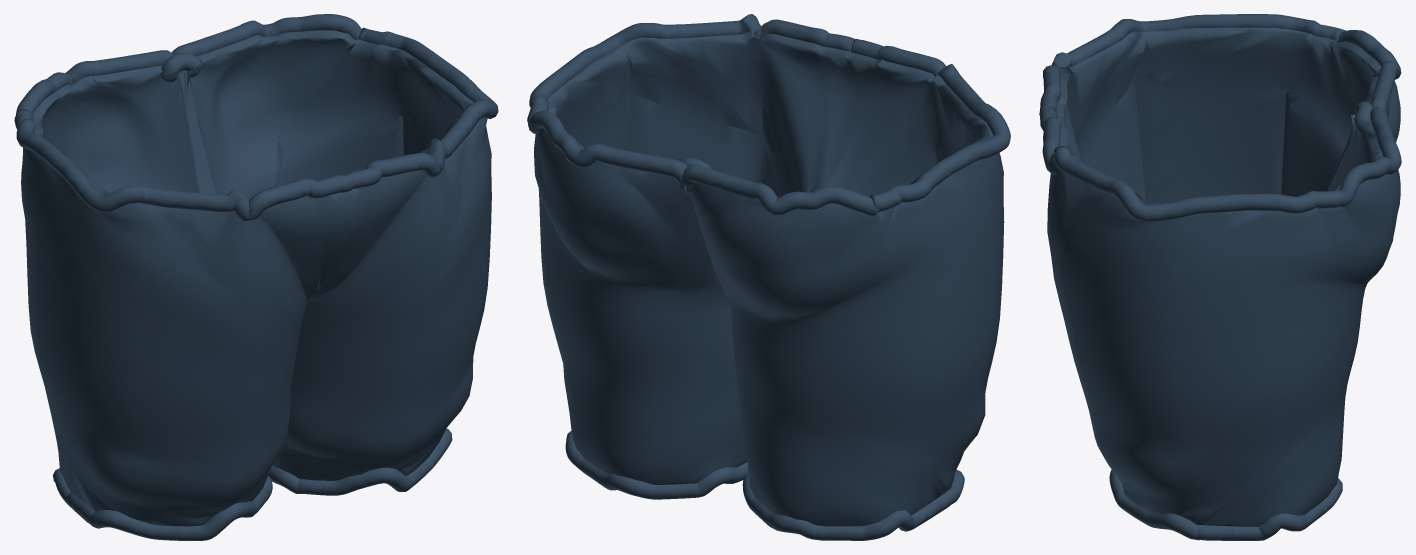
The model's file is 2HT-masculino.glb.
The picture shows the model from 3 angles, left to right: view 1: azimuth 30°, elevation 25°; view 2: azimuth 150°, elevation 25°; view 3: azimuth 270°, elevation 25°; orthographic projection. The views are drawn at different scales.
Visible parts, largest first — view 1: fitted-shell, bound-edge (×3); view 2: fitted-shell, bound-edge (×3); view 3: fitted-shell, bound-edge (×2).
Part boxes in pixels (x1,y1,x2,y2): fitted-shell: (21,30,491,526); bound-edge (×3): (14,14,498,540); fitted-shell: (534,23,1004,526); bound-edge (×3): (527,14,1010,540); fitted-shell: (1043,27,1400,526); bound-edge (×2): (1039,14,1401,540).
Bounding box in the file's own units: 0.0346 × 0.0307 × 0.0275.
